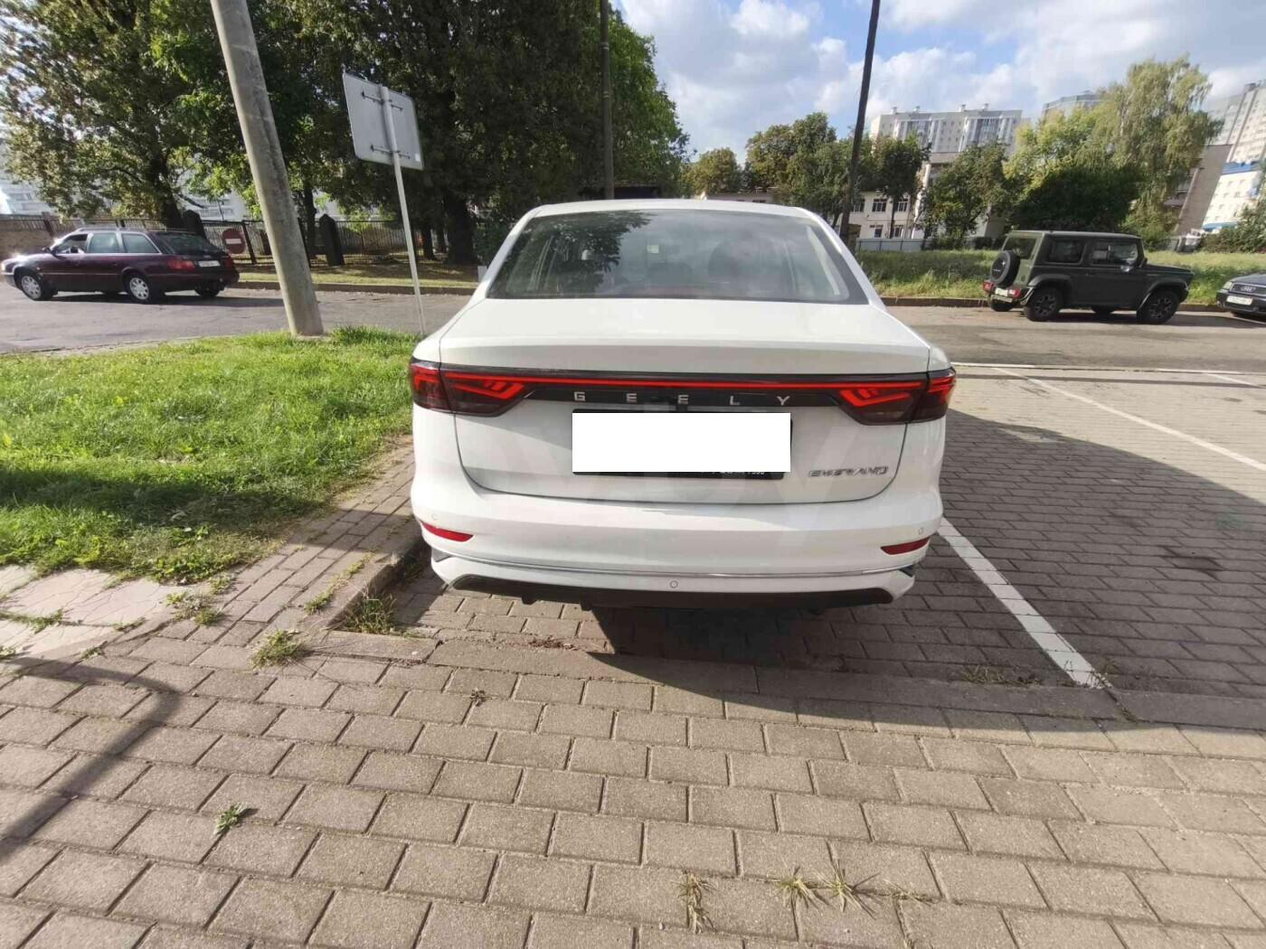Emgrand_2021: (404, 191, 957, 628)
